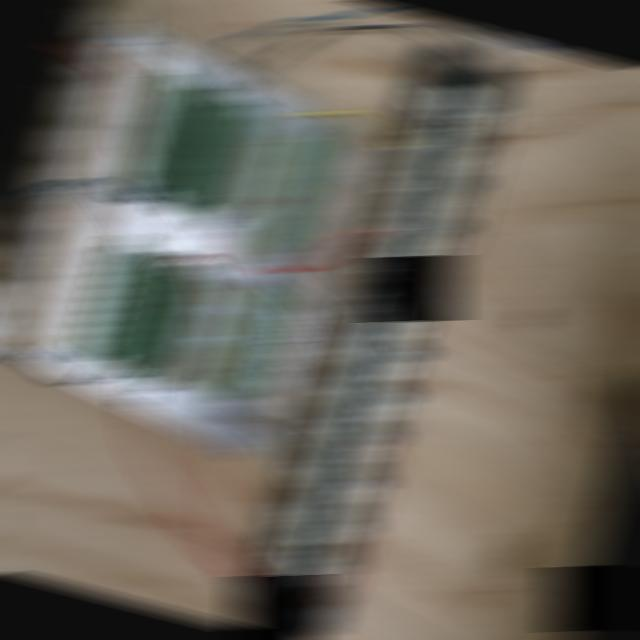Flathead_Block: (244, 41, 516, 635)
Terminal_1: (208, 281, 284, 404), (255, 129, 330, 253)
Terminal_2: (100, 257, 173, 375), (188, 100, 260, 219), (154, 85, 226, 203), (134, 271, 206, 389), (121, 71, 192, 189)
